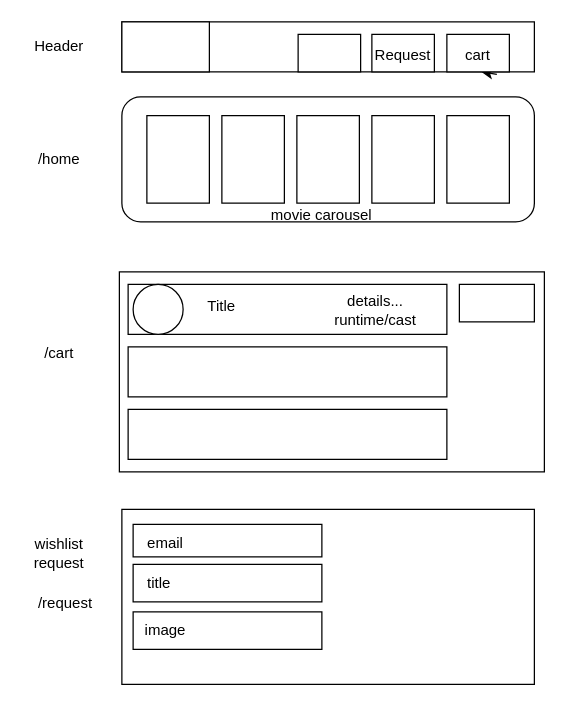
Some shapes in this 566 by 706 pixel diagram are drawn without their labels. Each missing label, with the centre of its shape:
"home" goes at point (329, 52).
"logo" goes at point (165, 46).
"order" goes at point (496, 302).
